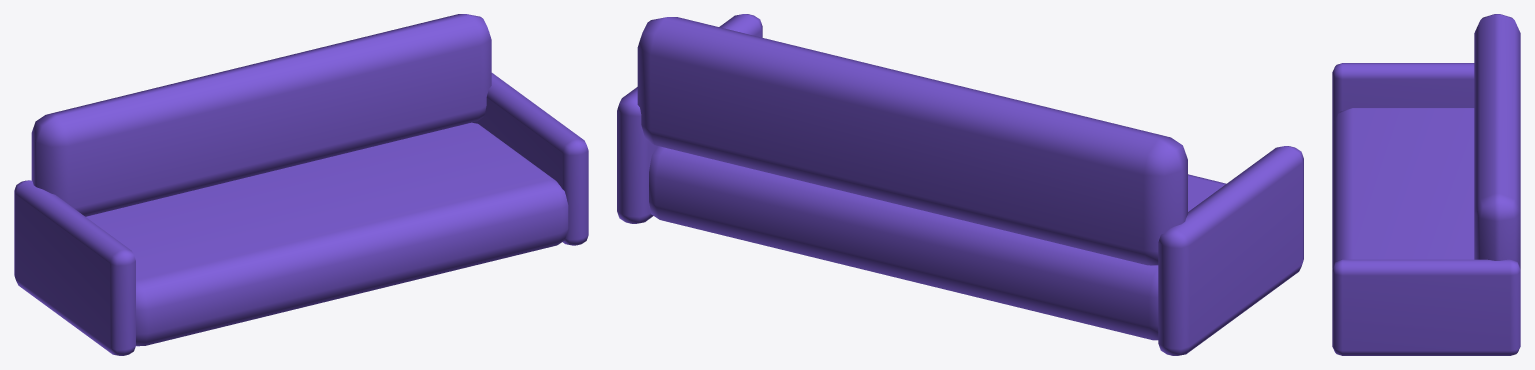
The model's file is sofa.glb.
The picture shows the model from 3 angles, left to right: view 1: azimuth 30°, elevation 25°; view 2: azimuth 150°, elevation 25°; view 3: azimuth 270°, elevation 25°; orthographic projection. The views are drawn at different scales.
Parts seen in each view (by area): view 1: Seat, Back, Arm, Arm.001; view 2: Back, Seat, Arm, Arm.001; view 3: Seat, Arm.001, Back, Arm.
Part boxes in pixels (x1,y1,x2,y2): Seat: [86, 122, 568, 346]; Back: [31, 14, 491, 216]; Arm: [14, 180, 135, 355]; Arm.001: [472, 73, 588, 245]; Back: [637, 17, 1187, 265]; Seat: [649, 146, 1226, 340]; Arm: [1158, 146, 1303, 355]; Arm.001: [617, 14, 762, 223]; Seat: [1332, 108, 1474, 268]; Arm.001: [1332, 259, 1520, 355]; Back: [1474, 14, 1520, 268]; Arm: [1332, 63, 1474, 125].
Bounding box in the file's own units: 1.9 × 0.65 × 0.73.
